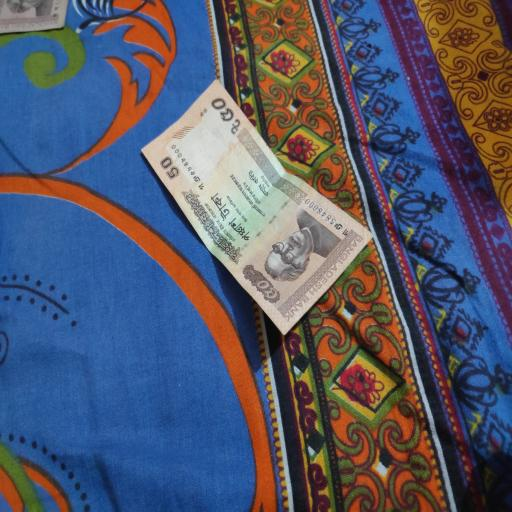50taka: (139, 77, 375, 333)
